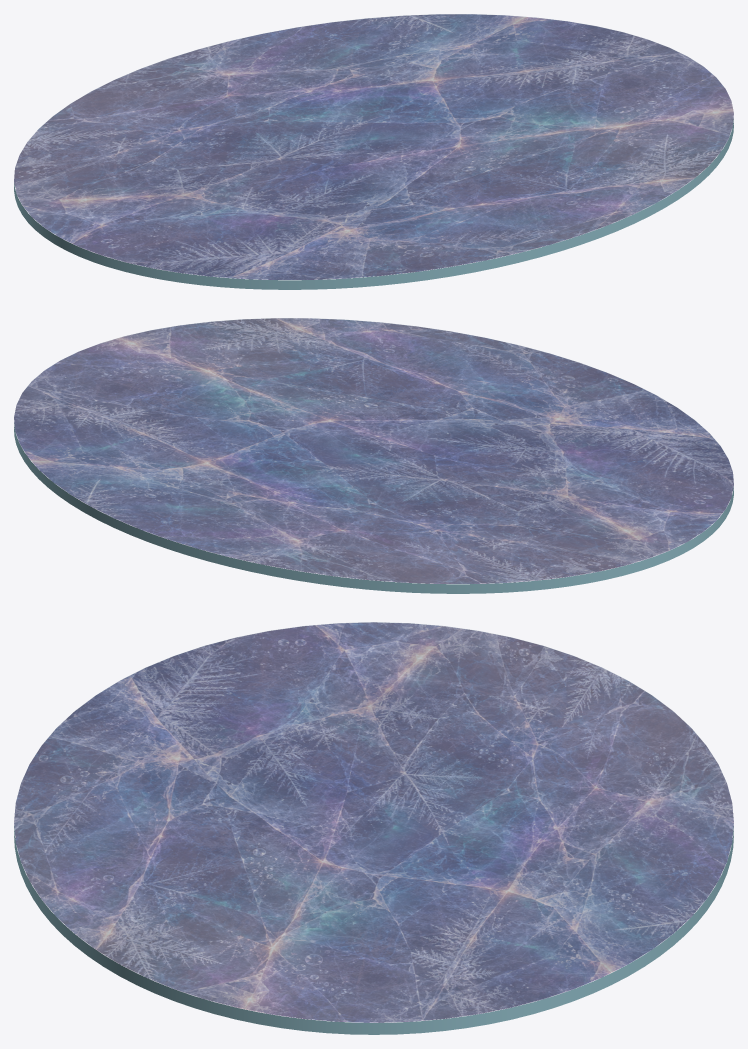
Rendered from lake.glb.
The picture shows the model from 3 angles, top to bottom: view 1: azimuth 30°, elevation 25°; view 2: azimuth 150°, elevation 25°; view 3: azimuth 270°, elevation 25°; orthographic projection. The views are drawn at different scales.
Visible parts, largest first — view 1: BlueIceLake, IceDetail_ice_lake_basecolor, LakeIceThickness; view 2: BlueIceLake, IceDetail_ice_lake_basecolor, LakeIceThickness; view 3: BlueIceLake, IceDetail_ice_lake_basecolor, LakeIceThickness.
Boxes of the visible parts, box(x1,y1,x2,y2) form: BlueIceLake: box(14, 14, 733, 279); IceDetail_ice_lake_basecolor: box(14, 15, 733, 279); LakeIceThickness: box(14, 119, 733, 289); BlueIceLake: box(14, 318, 733, 583); IceDetail_ice_lake_basecolor: box(14, 319, 733, 583); LakeIceThickness: box(14, 423, 733, 593); BlueIceLake: box(14, 622, 733, 1022); IceDetail_ice_lake_basecolor: box(14, 623, 733, 1021); LakeIceThickness: box(14, 826, 733, 1034).
Bounding box in the file's own units: 20 × 0.291 × 15.2.
Materials: 5 (4 with a texture image).
